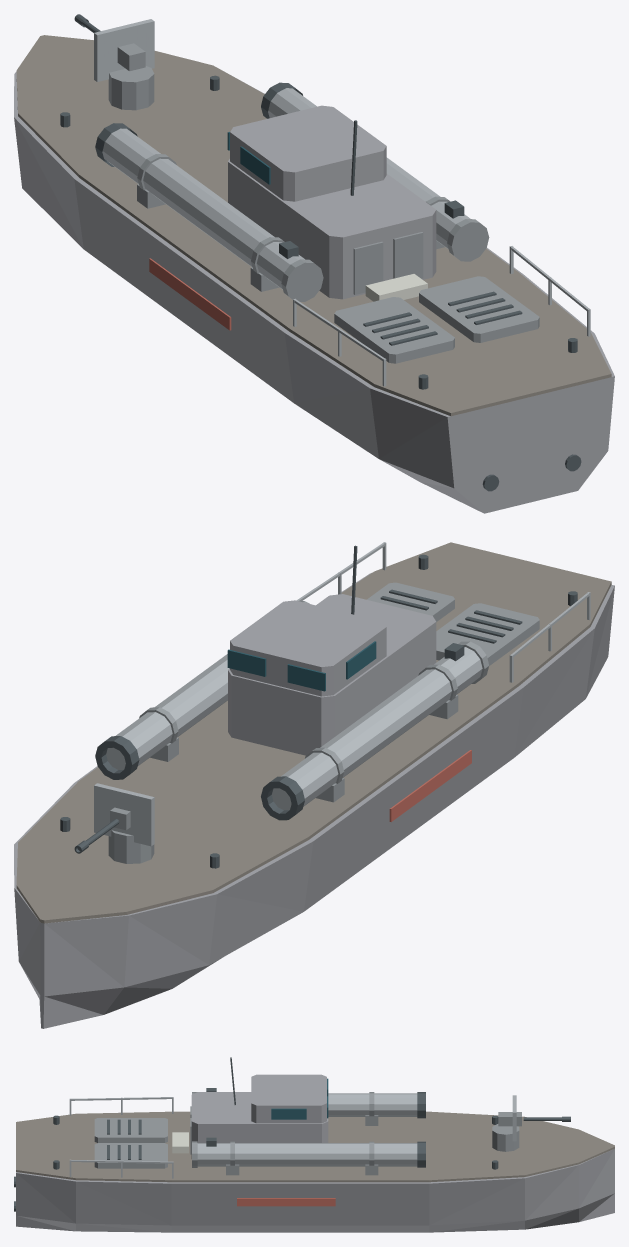
The model's file is ENE_Ww2TorpedoBoat.fbx.
The picture shows the model from 3 angles, top to bottom: view 1: azimuth 30°, elevation 25°; view 2: azimuth 150°, elevation 25°; view 3: azimuth 270°, elevation 25°; orthographic projection. The views are drawn at different scales.
Parts seen in each view (by area): view 1: ModelPivot_Visual, TurretPivot_Visual, ElevationPivot_Visual; view 2: ModelPivot_Visual, TurretPivot_Visual, ElevationPivot_Visual; view 3: ModelPivot_Visual, TurretPivot_Visual, ElevationPivot_Visual.
Part boxes in pixels (x1,y1,x2,y2): ModelPivot_Visual: (14,35,614,513); TurretPivot_Visual: (94,19,154,110); ElevationPivot_Visual: (74,14,145,71); ModelPivot_Visual: (14,542,614,1028); TurretPivot_Visual: (94,783,154,863); ElevationPivot_Visual: (74,807,130,853); ModelPivot_Visual: (14,1057,614,1232); TurretPivot_Visual: (492,1095,519,1151); ElevationPivot_Visual: (498,1112,570,1126).
Bounding box in the file's own units: 194 × 194 × 682.
